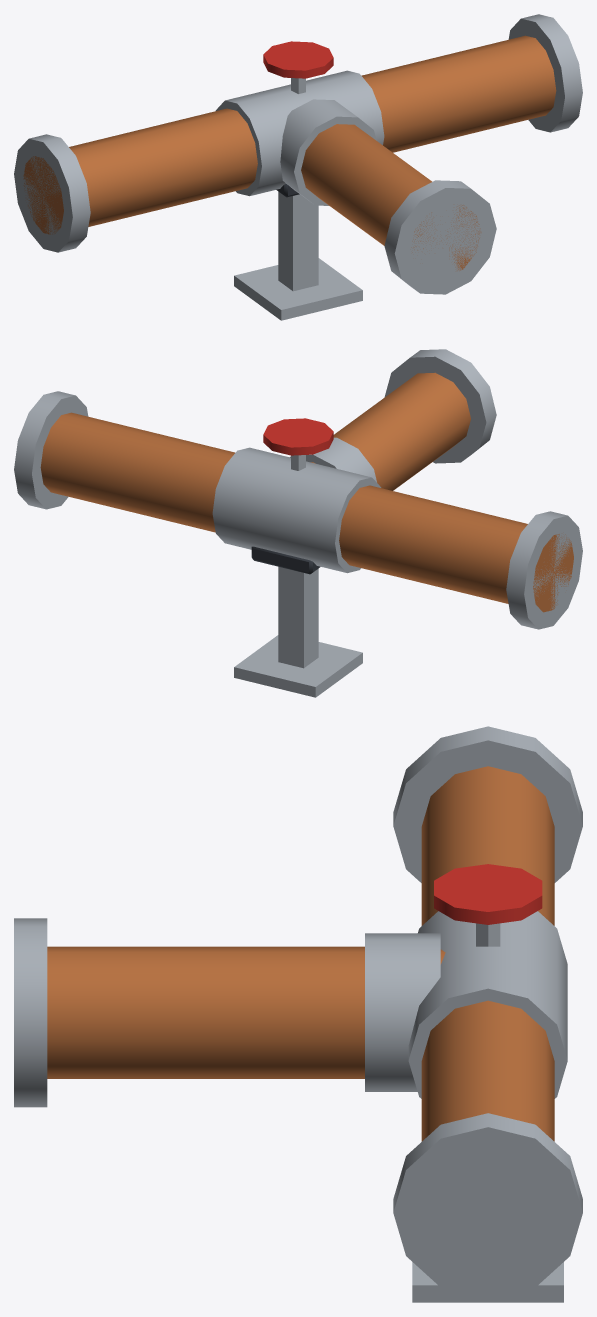
The model's file is pipe_tee.glb.
3 renders of one model, top to bottom at view 1: azimuth 30°, elevation 25°; view 2: azimuth 150°, elevation 25°; view 3: azimuth 270°, elevation 25°, orthographic. The views are drawn at different scales.
Visible parts, largest first — view 1: pipe_tee; view 2: pipe_tee; view 3: pipe_tee.
Boxes of the visible parts, x1,y1,x2,y2 form: pipe_tee: [14, 14, 582, 320]; pipe_tee: [14, 349, 582, 697]; pipe_tee: [14, 726, 582, 1302].
Bounding box in the file's own units: 1 × 0.445 × 0.6.
